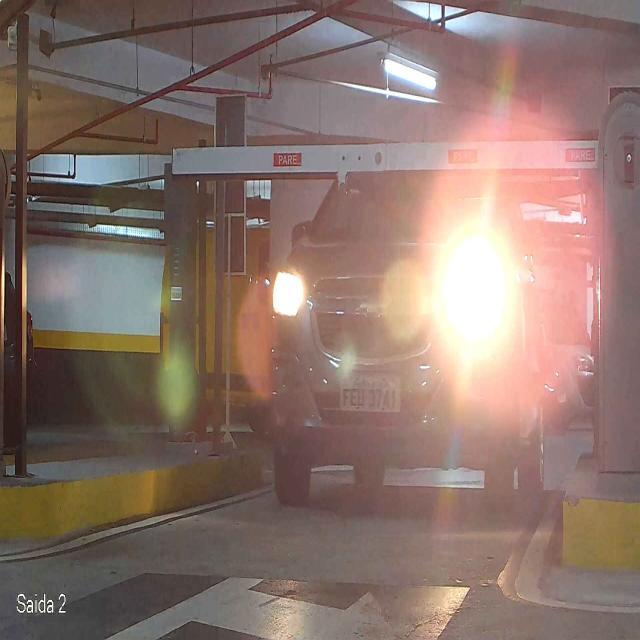old_plate: (337, 372, 404, 413)
